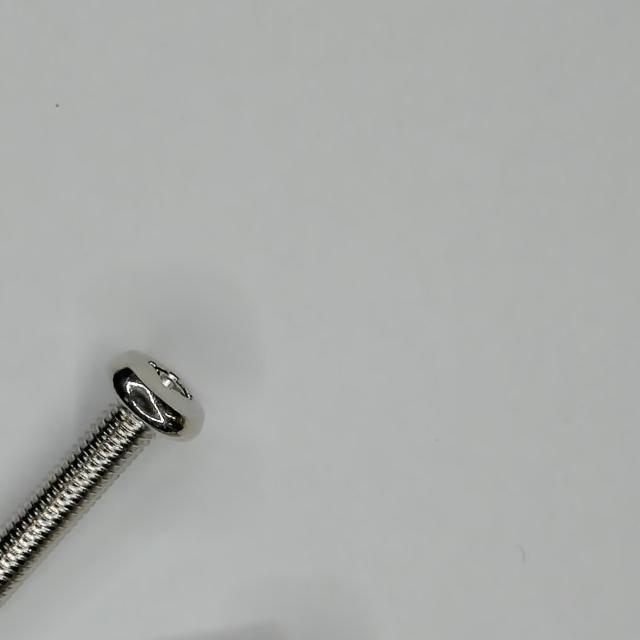Screw: (0, 352, 203, 600)
